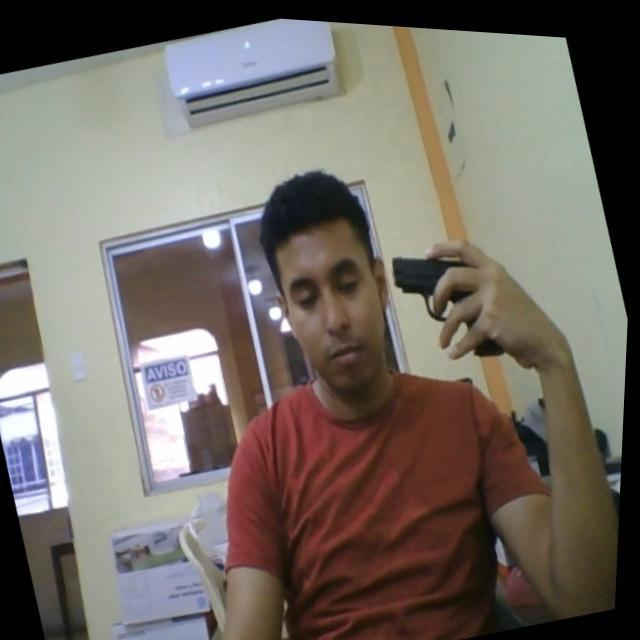weapon: (385, 225, 514, 372)
